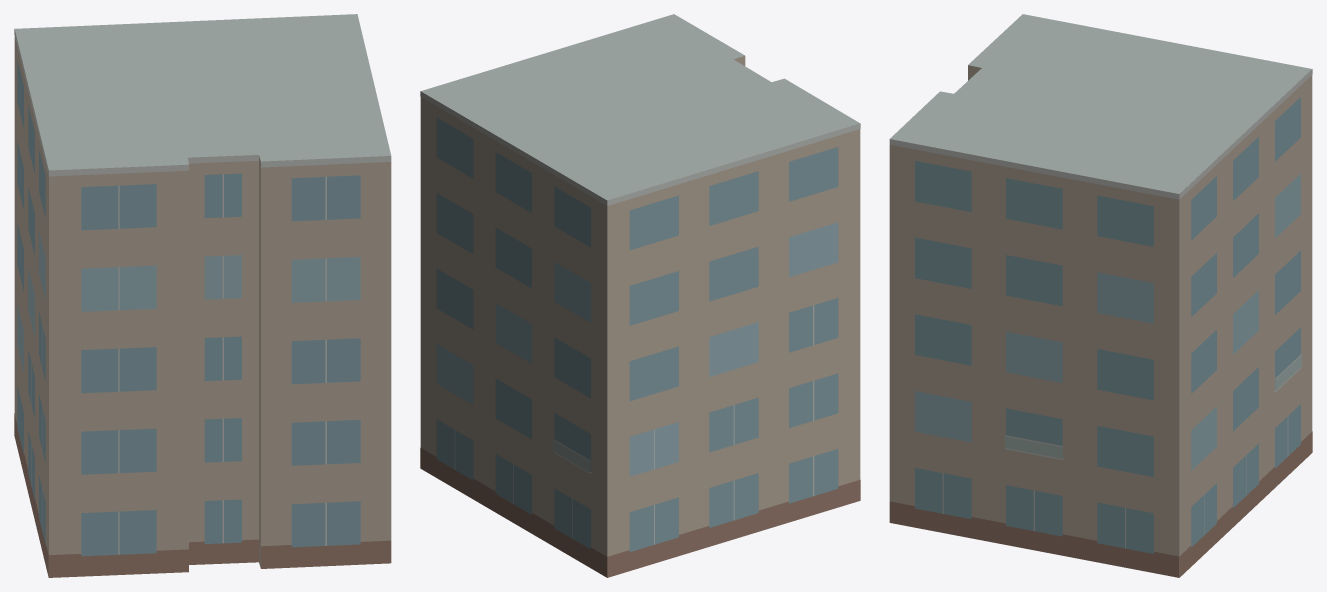
Rendered from survey-upis-32748200.glb.
The picture shows the model from 3 angles, left to right: view 1: azimuth 30°, elevation 25°; view 2: azimuth 150°, elevation 25°; view 3: azimuth 270°, elevation 25°; orthographic projection. The views are drawn at different scales.
Visible parts, largest first — view 1: survey-upis-32748200.tmp; view 2: survey-upis-32748200.tmp; view 3: survey-upis-32748200.tmp.
Boxes of the visible parts, x1,y1,x2,y2 form: survey-upis-32748200.tmp: [14, 14, 391, 577]; survey-upis-32748200.tmp: [420, 14, 860, 577]; survey-upis-32748200.tmp: [889, 14, 1312, 577].
Size of the model in its own units: 16.72 by 16.6 by 16.58.
